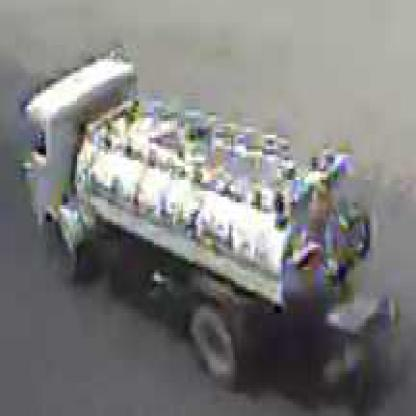truck: (24, 55, 371, 384)
